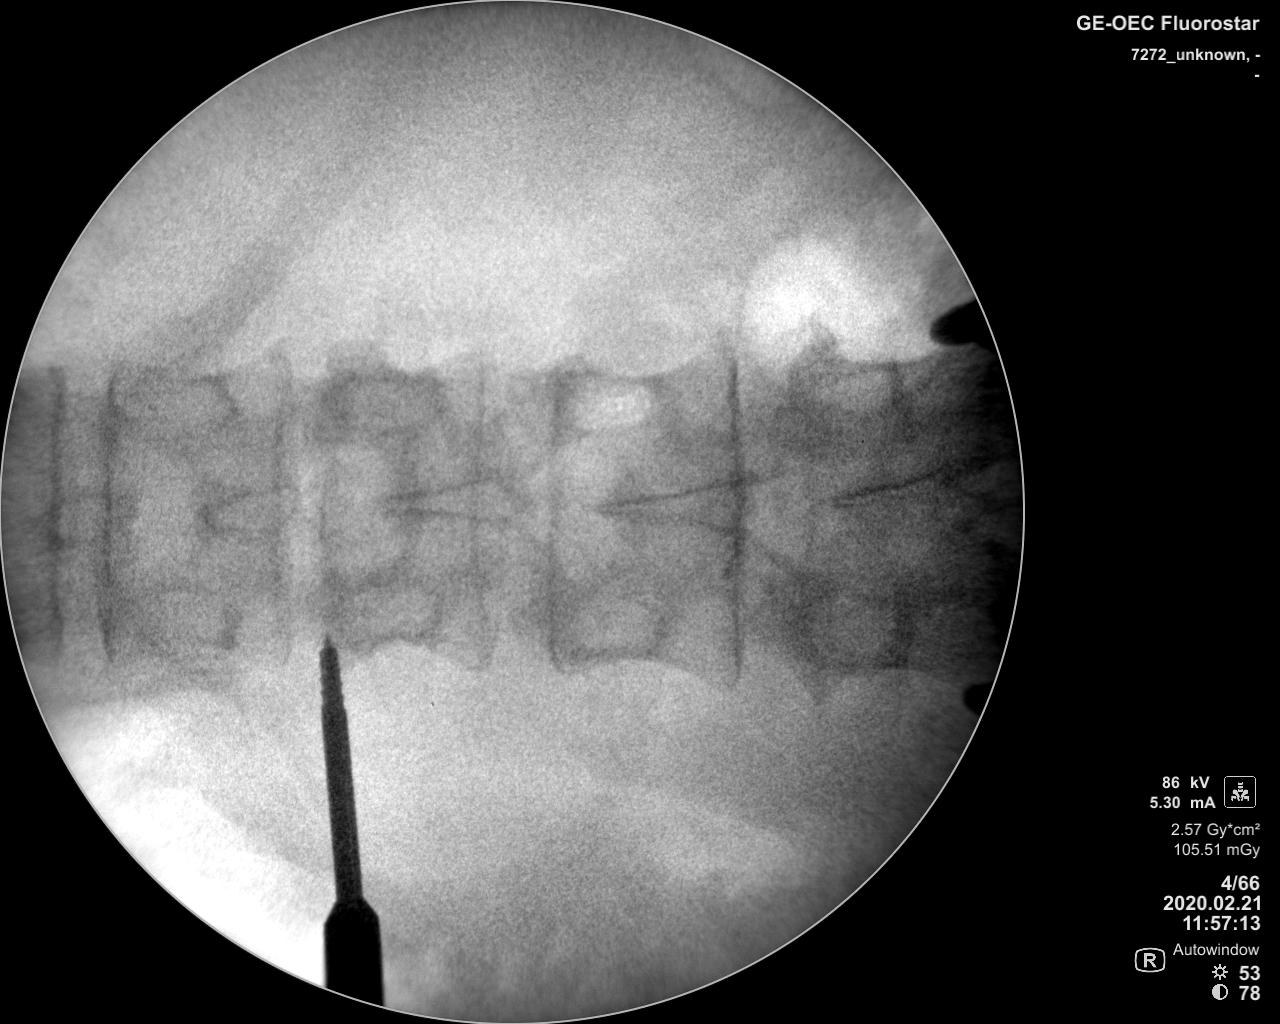eyes: (107, 358, 241, 444), (113, 578, 241, 667), (318, 360, 450, 444), (543, 580, 659, 672), (328, 576, 448, 647), (808, 577, 897, 670), (546, 360, 664, 430), (802, 354, 903, 421)
line: (465, 335, 517, 677), (259, 340, 304, 686), (718, 332, 757, 699), (534, 351, 571, 681), (39, 358, 77, 669), (95, 362, 132, 670)
nose: (585, 472, 763, 539), (371, 472, 530, 529), (819, 467, 958, 518), (30, 487, 147, 546), (189, 481, 302, 539)
